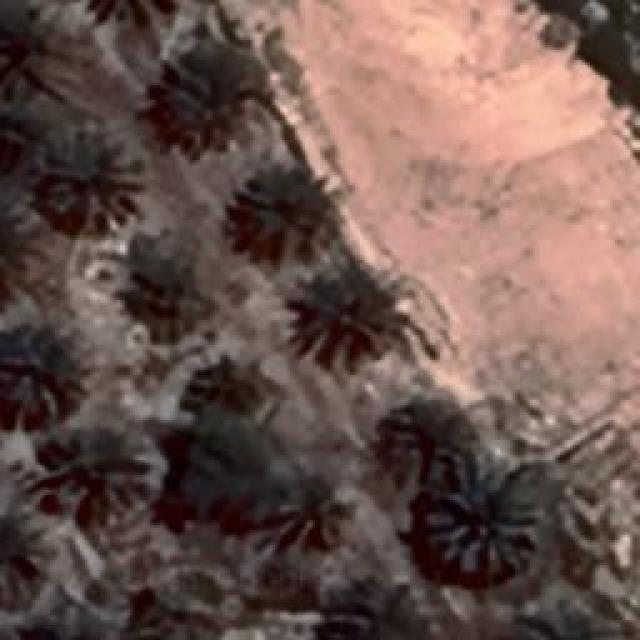PalmTree: (110, 42, 378, 611), (422, 460, 536, 578), (30, 130, 145, 235), (165, 49, 268, 152), (175, 424, 275, 528), (42, 432, 146, 520), (250, 462, 348, 550), (0, 8, 88, 102), (0, 329, 72, 429), (248, 175, 332, 255), (314, 272, 392, 358), (125, 267, 210, 335), (392, 406, 466, 476), (194, 361, 262, 421), (0, 506, 42, 603), (0, 190, 35, 298), (512, 606, 619, 640), (14, 611, 122, 640), (13, 622, 122, 640)
